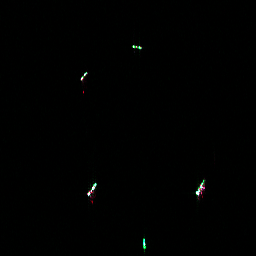ship: (193, 177, 206, 198), (84, 181, 99, 198), (78, 69, 90, 84), (141, 236, 148, 251), (130, 43, 143, 51)
